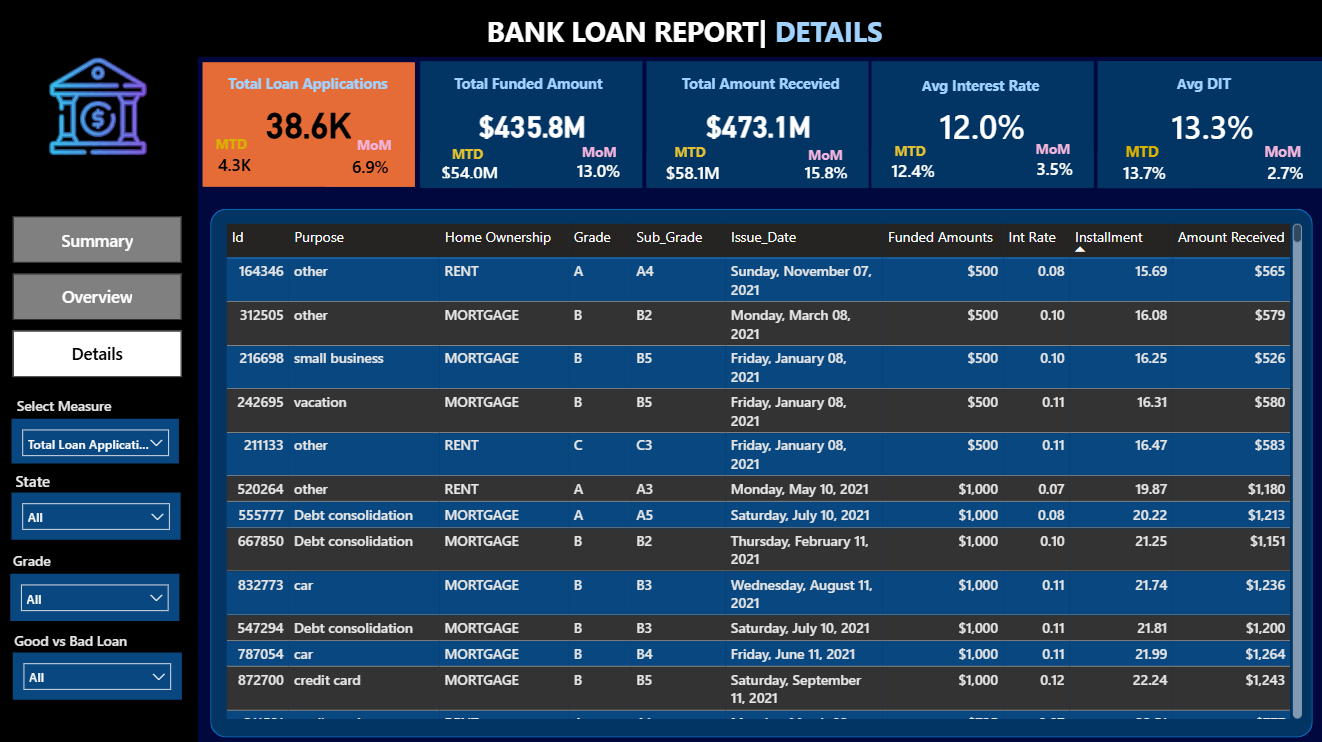

This screenshot's page, from the dashboard's own definition file:
{"tool":"powerbi","page":{"name":"Details","canvas":[1280,720],"ordinal":2},"visuals":[{"type":"cardVisual","fields":{"Data":["financial_loan.Total Funded Amounts"]},"box":[406.6,59,214.1,122.1],"z":0,"group":"g1"},{"type":"cardVisual","fields":{"Data":["financial_loan.Avg DTI"]},"box":[1060.7,59,220.1,122.1],"z":0,"group":"g3"},{"type":"cardVisual","fields":{"Data":["financial_loan.Total Amount Received"]},"box":[624.7,59.1,214,122],"z":0,"group":"g4"},{"type":"cardVisual","fields":{"Data":["financial_loan.Total Loan Applications"]},"box":[196.2,59.9,204.6,119.8],"z":0},{"type":"cardVisual","fields":{"Data":["financial_loan.Avg Interest Rate"]},"box":[841.9,59,214.1,122.1],"z":1000,"group":"g2"},{"type":"textbox","box":[434,65.9,172.9,32.9],"z":1000,"group":"g1"},{"type":"textbox","box":[653.5,66,183.9,38.4],"z":1000,"group":"g4"},{"type":"cardVisual","fields":{"Data":["financial_loan.MTD Avg DIT"]},"box":[1060.7,146.8,88.9,34.3],"z":1000,"group":"g3"},{"type":"shape","box":[203.9,201.5,1064.1,510.3],"z":1000},{"type":"shape","box":[0,0,1280,54.9],"z":2000},{"type":"cardVisual","fields":{"Data":["financial_loan.MoM Avg DIT"]},"box":[1200.4,146.8,80.4,34.3],"z":2000,"group":"g3"},{"type":"cardVisual","title":"MTD ","fields":{"Data":["financial_loan.MTD Amount Recevied"]},"box":[624.7,148.3,87.8,31.6],"z":2000,"group":"g4"},{"type":"cardVisual","title":"MTD ","fields":{"Data":["financial_loan.MTD Funded Amount"]},"box":[406.6,148.4,93.7,30.2],"z":2000,"group":"g1"},{"type":"textbox","box":[1081.9,131.7,48,34.3],"z":3000,"group":"g3"},{"type":"cardVisual","title":"MoM","fields":{"Data":["financial_loan.MoM Loan Applications"]},"box":[315.7,137.1,83.5,42.1],"z":3000},{"type":"cardVisual","title":"MTD ","fields":{"Data":["financial_loan.MoM Funded Amount"]},"box":[533.9,143.4,86.7,37.8],"z":3000,"group":"g1"},{"type":"cardVisual","title":"MTD ","fields":{"Data":["financial_loan.MoM Amount Recevied"]},"box":[757.8,148.3,79.6,30.2],"z":3000,"group":"g4"},{"type":"shape","box":[0,54.9,192.1,665.5],"z":4000},{"type":"textbox","box":[1215.9,131.7,52.2,34.3],"z":4000,"group":"g3"},{"type":"textbox","box":[557.7,132,51.8,29],"z":4000,"group":"g1"},{"type":"textbox","box":[775.6,134.6,45.3,31.6],"z":4000,"group":"g4"},{"type":"textbox","box":[1132.1,65.9,130.4,34.3],"z":5000,"group":"g3"},{"type":"textbox","box":[216.4,66.9,172.8,32.3],"z":5000},{"type":"textbox","box":[646.7,133.2,43.9,32.9],"z":5000,"group":"g4"},{"type":"textbox","box":[431.8,133.3,46.2,32.7],"z":5000,"group":"g1"},{"type":"cardVisual","title":"MTD ","fields":{"Data":["financial_loan.MTD Loan Applications"]},"box":[197.7,135.7,57.6,42.1],"z":6000},{"type":"textbox","box":[466,7.2,427.1,47.6],"z":7000},{"type":"textbox","box":[885.8,67.2,172.9,34.3],"z":7000,"group":"g2"},{"type":"textbox","box":[340.3,125.7,59,30.2],"z":8000},{"type":"cardVisual","fields":{"Data":["financial_loan.MoM Interest rate"]},"box":[979.1,141.3,76.8,39.8],"z":8000,"group":"g2"},{"type":"textbox","box":[203.4,124.5,49,29.5],"z":9000},{"type":"cardVisual","fields":{"Data":["financial_loan.MTD Avg Interest rate"]},"box":[841.9,142.7,78.2,38.4],"z":9000,"group":"g2"},{"type":"group","id":"g1","title":"Group 3","box":[406.6,59,214.1,122.1],"z":10000},{"type":"textbox","box":[995.6,129,52.1,28.8],"z":10000,"group":"g2"},{"type":"group","id":"g2","title":"Group 5","box":[841.9,59,216.8,122.1],"z":11000},{"type":"textbox","box":[858.4,131.7,46.7,32.9],"z":11000,"group":"g2"},{"type":"group","id":"g3","title":"Group 4","box":[1060.7,59,219.6,122.1],"z":12000},{"type":"group","id":"g4","title":"Group 1","box":[624.7,59.1,214.1,122.1],"z":13000},{"type":"slicer","fields":{"Values":["financial_loan.address_state"]},"box":[12.1,475.5,162.9,45.8],"z":14000},{"type":"textbox","box":[10.9,449,66.4,35],"z":15000},{"type":"slicer","fields":{"Values":["financial_loan.grade"]},"box":[10.9,554,162.9,45.8],"z":16000},{"type":"slicer","fields":{"Values":["financial_loan.Good vs Bad Loan"]},"box":[13.3,630,162.9,45.8],"z":17000},{"type":"textbox","box":[8.4,527.4,73.6,35],"z":18000},{"type":"textbox","box":[9.7,604.4,133.9,35],"z":19000},{"type":"slicer","fields":{"Values":["Select Measure.Select Measure"]},"box":[12.1,404.4,161.7,43.4],"z":20000},{"type":"textbox","box":[12.1,377.6,102.5,51.9],"z":21000},{"type":"tableEx","fields":{"Values":["financial_loan.id","financial_loan.purpose","financial_loan.home_ownership","financial_loan.grade","financial_loan.sub_grade","financial_loan.issue_date","financial_loan.Total Funded Amounts","Sum(financial_loan.int_rate)","Sum(financial_loan.installment)","financial_loan.Total Amount Received"]},"box":[213.5,210.6,1048.9,487.7],"z":22000},{"type":"image","box":[10.1,0,163,202],"z":23000},{"type":"pageNavigator","box":[13,209.2,163,155.8],"z":24000}]}

Visuals, with their boxes in screenshot pixels (x1, y1, x2, y2), scaled from the page's 1280x720 canvas onto the 1322x742 screenshot:
cardVisual - financial_loan.Total Funded Amounts: crop(420, 61, 641, 187)
cardVisual - financial_loan.Avg DTI: crop(1096, 61, 1321, 187)
cardVisual - financial_loan.Total Amount Received: crop(645, 61, 866, 187)
cardVisual - financial_loan.Total Loan Applications: crop(203, 62, 414, 185)
cardVisual - financial_loan.Avg Interest Rate: crop(870, 61, 1091, 187)
textbox: crop(448, 68, 627, 102)
textbox: crop(675, 68, 865, 108)
cardVisual - financial_loan.MTD Avg DIT: crop(1096, 151, 1187, 187)
shape: crop(211, 208, 1310, 734)
shape: crop(0, 0, 1321, 57)
cardVisual - financial_loan.MoM Avg DIT: crop(1240, 151, 1321, 187)
"MTD " cardVisual: crop(645, 153, 736, 185)
"MTD " cardVisual: crop(420, 153, 517, 184)
textbox: crop(1117, 136, 1167, 171)
"MoM" cardVisual: crop(326, 141, 412, 185)
"MTD " cardVisual: crop(551, 148, 641, 187)
"MTD " cardVisual: crop(783, 153, 865, 184)
shape: crop(0, 57, 198, 741)
textbox: crop(1256, 136, 1310, 171)
textbox: crop(576, 136, 629, 166)
textbox: crop(801, 139, 848, 171)
textbox: crop(1169, 68, 1304, 103)
textbox: crop(224, 69, 402, 102)
textbox: crop(668, 137, 713, 171)
textbox: crop(446, 137, 494, 171)
"MTD " cardVisual: crop(204, 140, 264, 183)
textbox: crop(481, 7, 922, 56)
textbox: crop(915, 69, 1093, 105)
textbox: crop(351, 130, 412, 161)
cardVisual - financial_loan.MoM Interest rate: crop(1011, 146, 1091, 187)
textbox: crop(210, 128, 261, 159)
cardVisual - financial_loan.MTD Avg Interest rate: crop(870, 147, 950, 187)
"Group 3" group: crop(420, 61, 641, 187)
textbox: crop(1028, 133, 1082, 163)
"Group 5" group: crop(870, 61, 1093, 187)
textbox: crop(887, 136, 935, 170)
"Group 4" group: crop(1096, 61, 1321, 187)
"Group 1" group: crop(645, 61, 866, 187)
slicer - financial_loan.address_state: crop(12, 490, 181, 537)
textbox: crop(11, 463, 80, 499)
slicer - financial_loan.grade: crop(11, 571, 180, 618)
slicer - financial_loan.Good vs Bad Loan: crop(14, 649, 182, 696)
textbox: crop(9, 544, 85, 580)
textbox: crop(10, 623, 148, 659)
slicer - Select Measure.Select Measure: crop(12, 417, 180, 461)
textbox: crop(12, 389, 118, 443)
tableEx - financial_loan.id x financial_loan.purpose: crop(221, 217, 1304, 720)
image: crop(10, 0, 179, 208)
pageNavigator: crop(13, 216, 182, 376)
